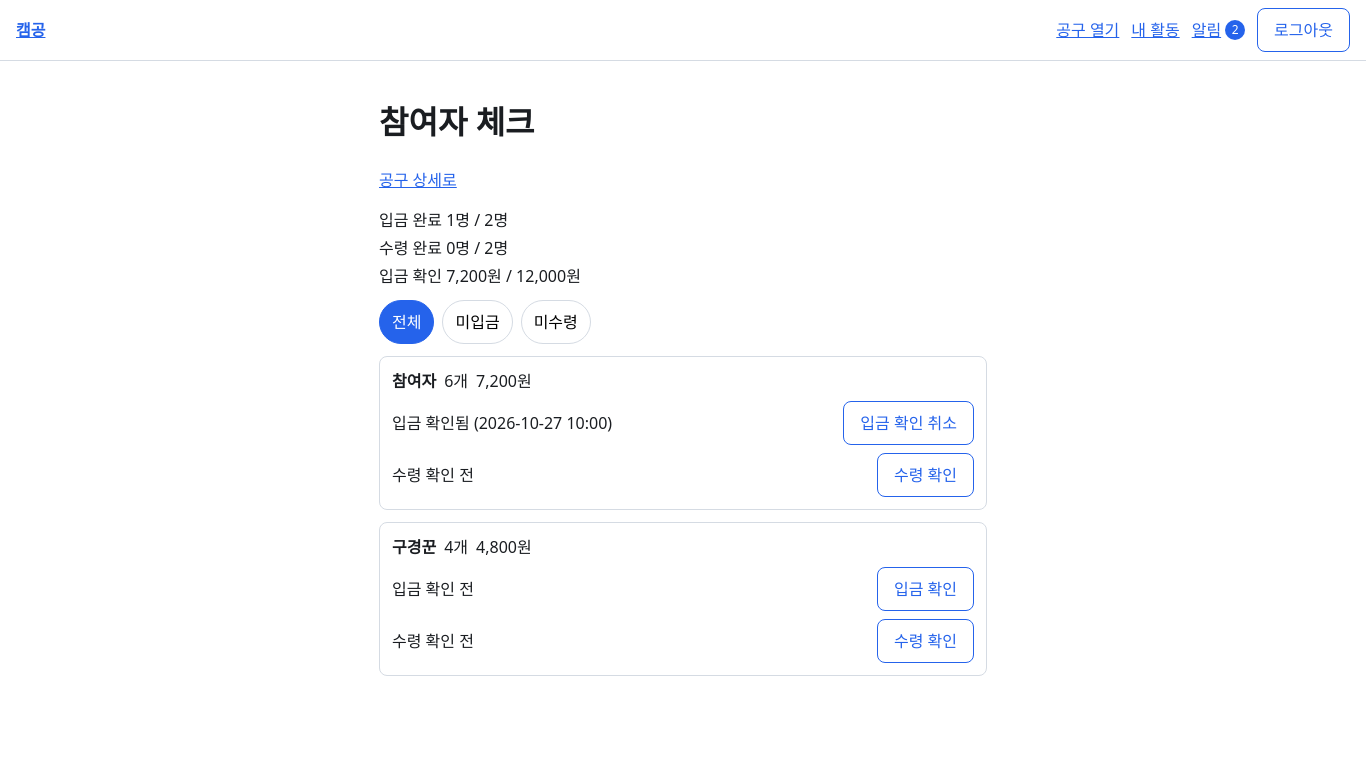
Test: 체크표 (US6) › 필터는 목록만 거르고 요약은 전체 기준을 유지한다
expect the list item "참여자" is shown: met, box x1=379 y1=356 x2=987 y2=510
Step 1. Click the button "미입금" → (478, 322), box x1=442 y1=300 x2=513 y2=344
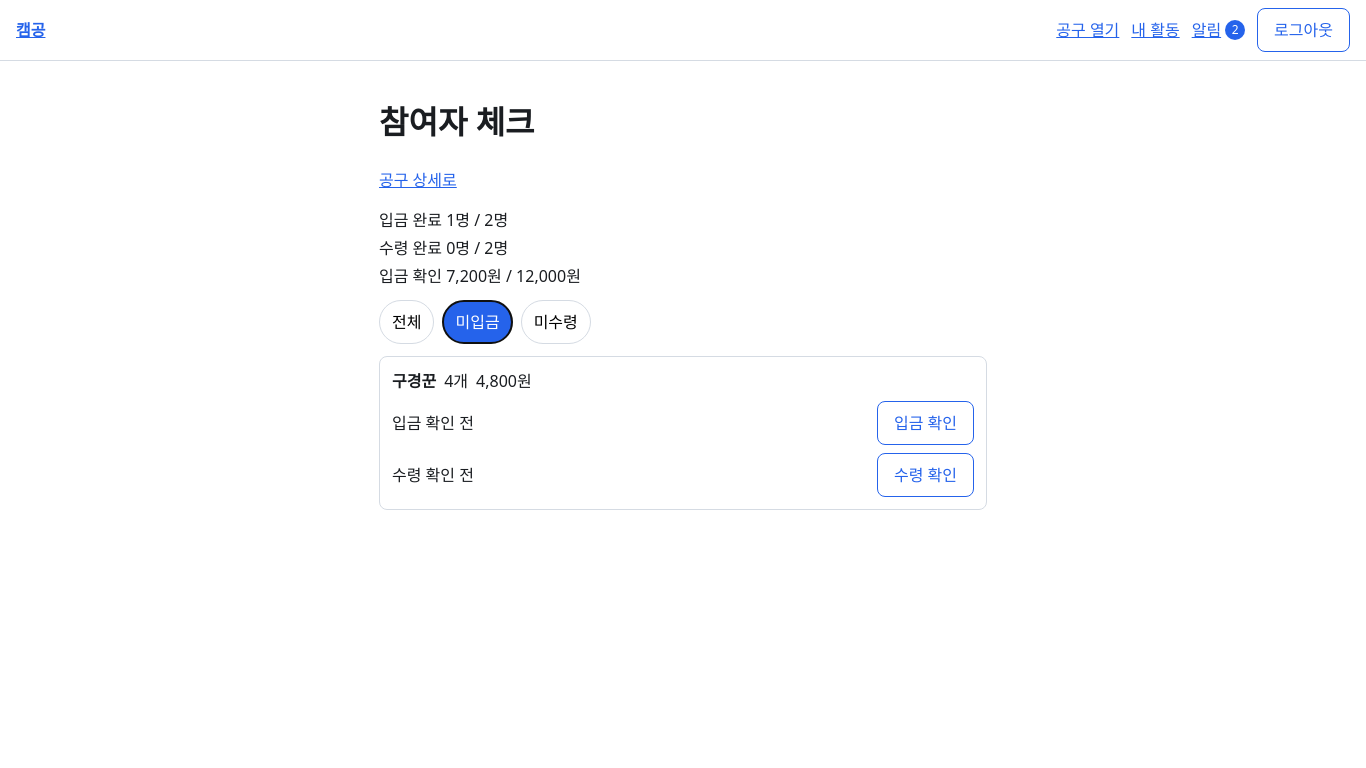
expect the list item "구경꾼" is shown: met, box x1=379 y1=356 x2=987 y2=510
expect the text "입금 완료 1명 / 2명" is shown: met, box x1=379 y1=209 x2=508 y2=231
Step 2. Click the button "전체" → (407, 322), box x1=379 y1=300 x2=434 y2=344
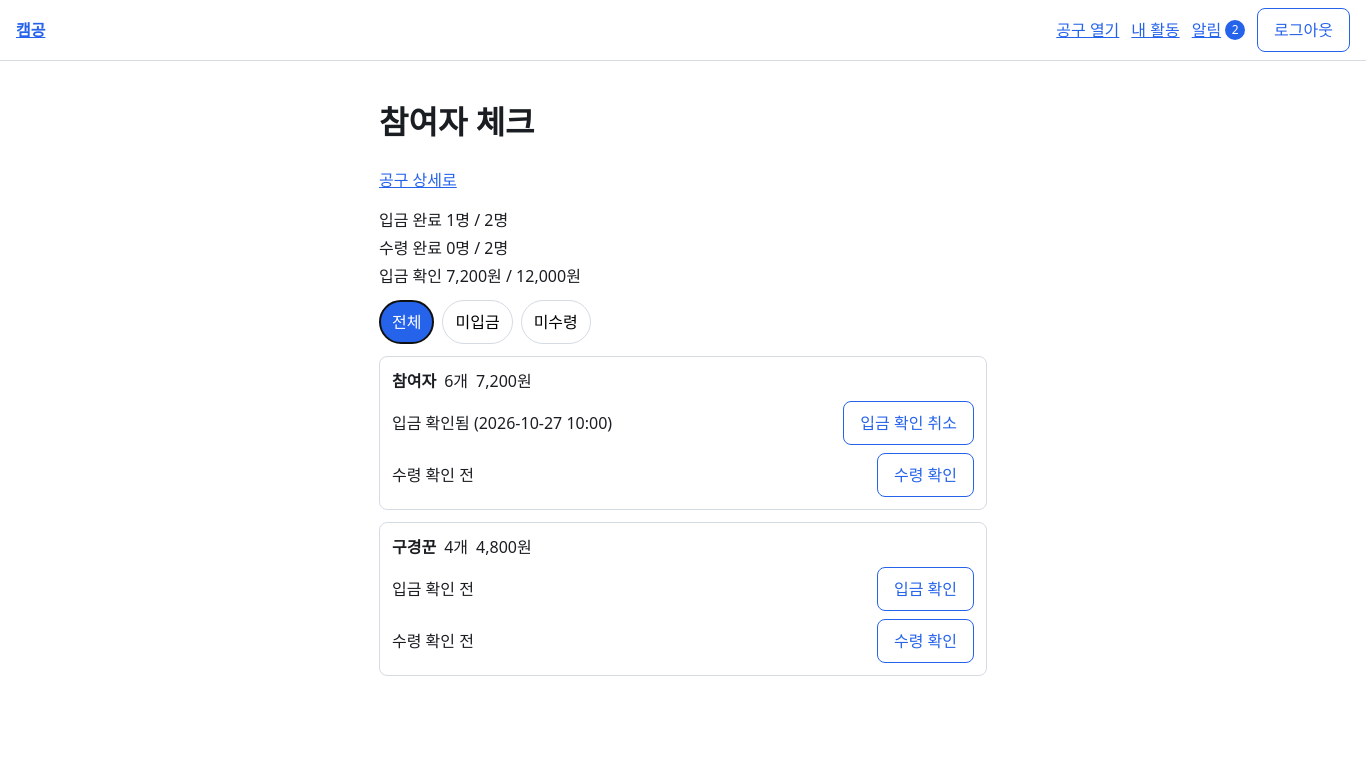
expect the list item "참여자" is shown: met, box x1=379 y1=356 x2=987 y2=510
